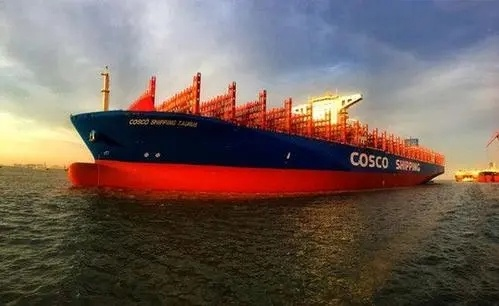Cargoship: (65, 71, 437, 191)
